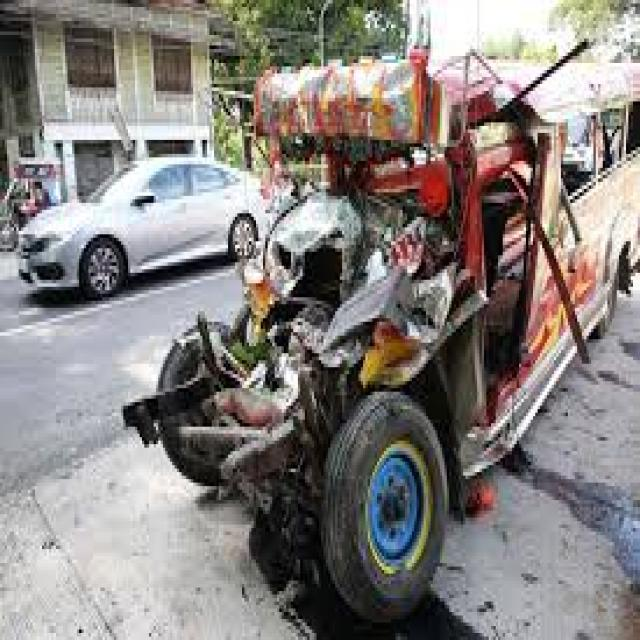accident: (113, 41, 636, 610)
